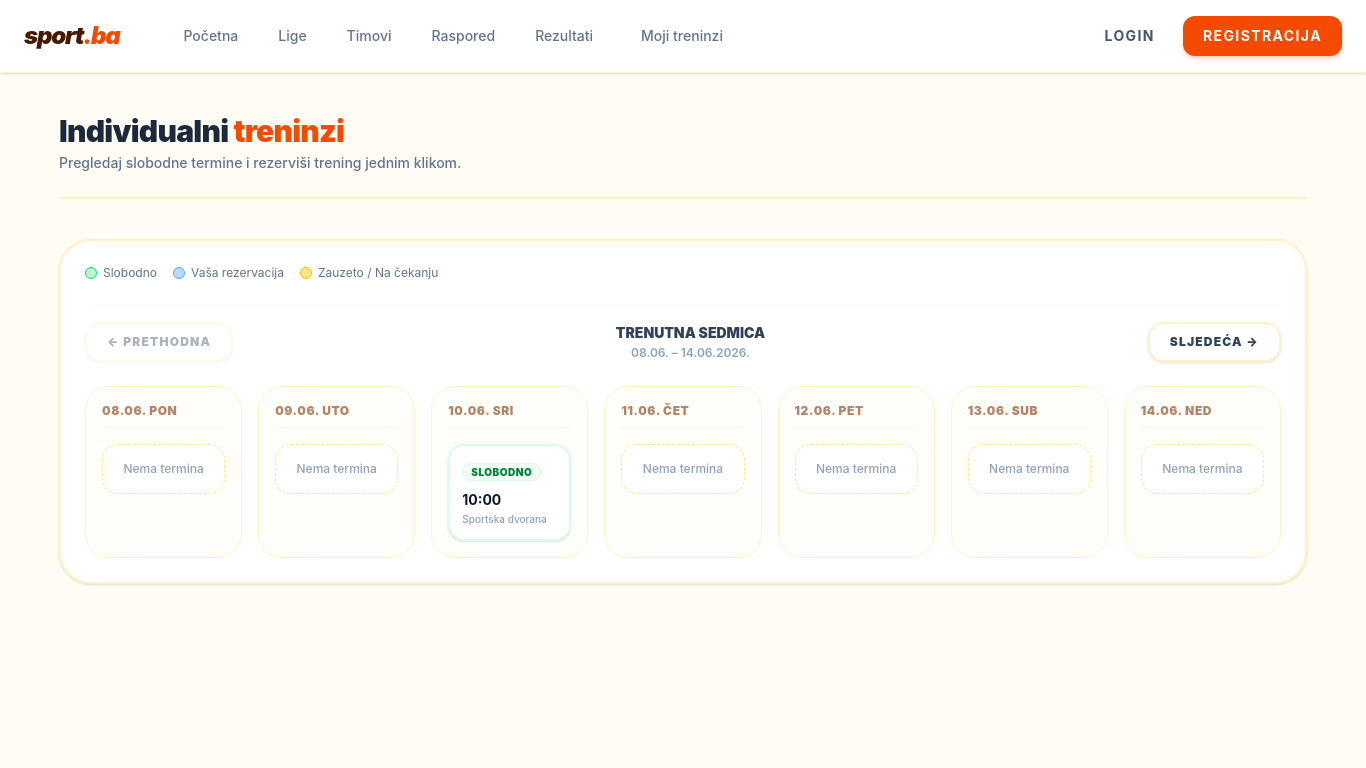
IndividualTraining page › prikazuje upozorenje za zahtjev na čekanju
Expected: the text "Sportska dvorana" is shown, [462,512,557,527]
Click the button "Slobodno 10:00 Sportska dvorana": (510, 492) [448,444,571,541]
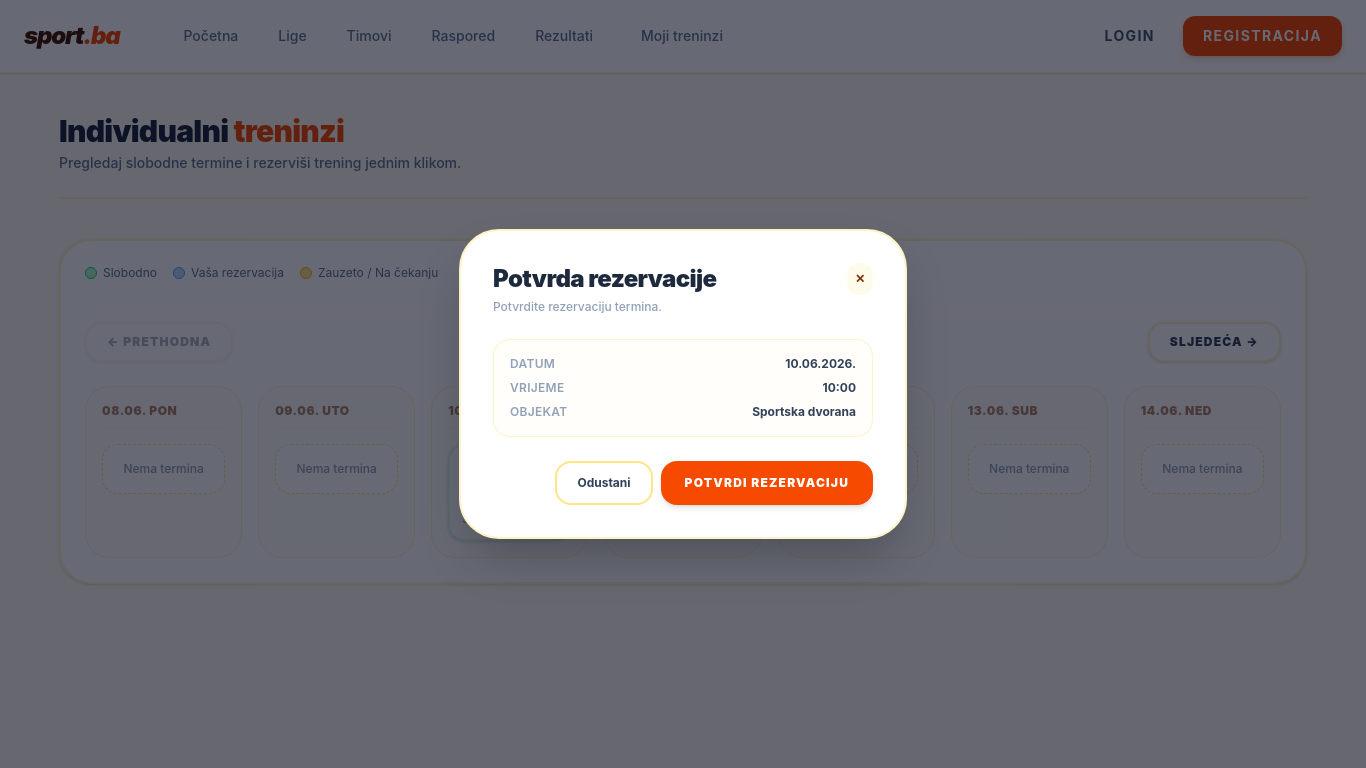
Click the button "Potvrdi rezervaciju": (767, 483) [661,461,873,505]
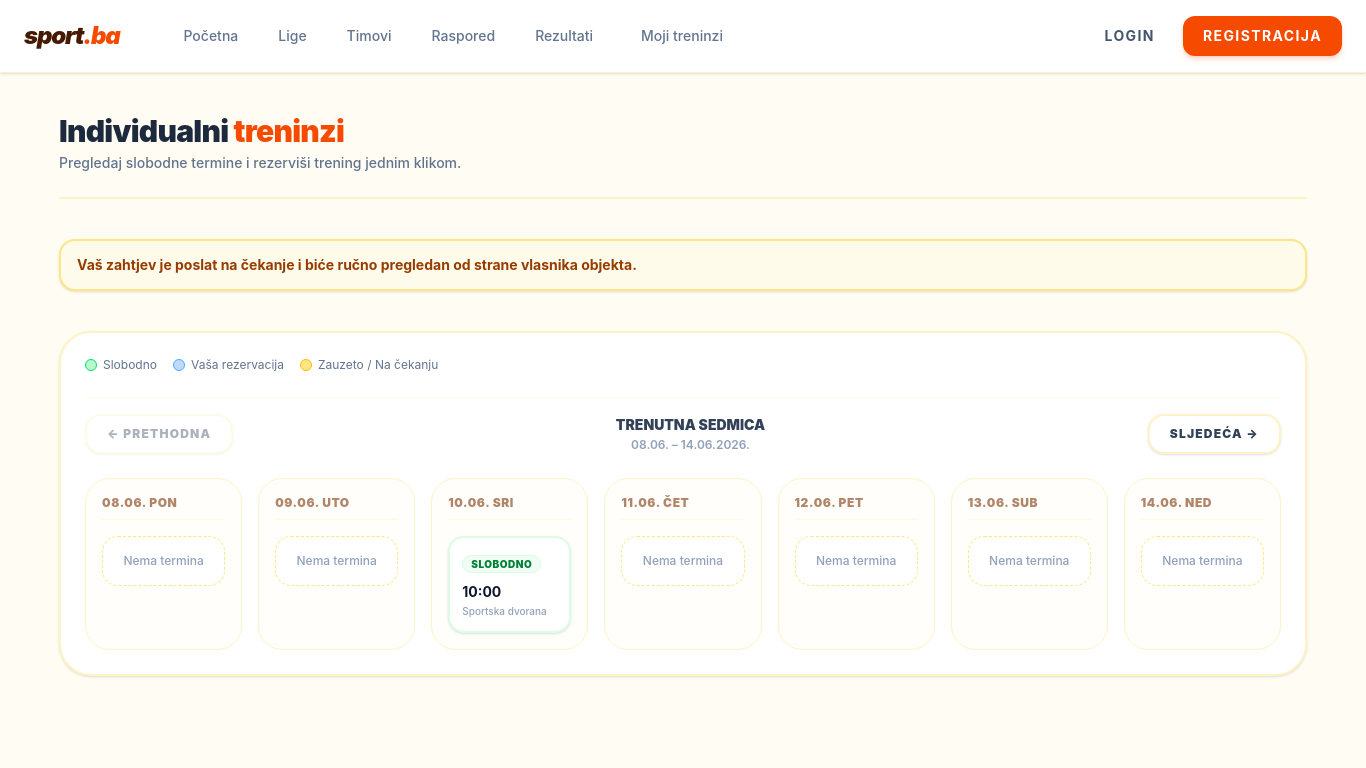
Now the text "zahtjev je poslat na čekanje" is shown, box [77,256,637,273]
